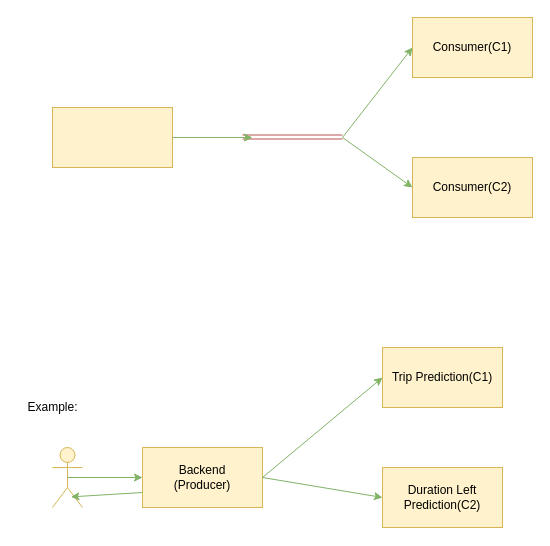
This 550x546 diagram has some shape labels left out. Each missing label, with the centre of its shape:
Actor: pixel 67 477
Producer: pixel 112 137
